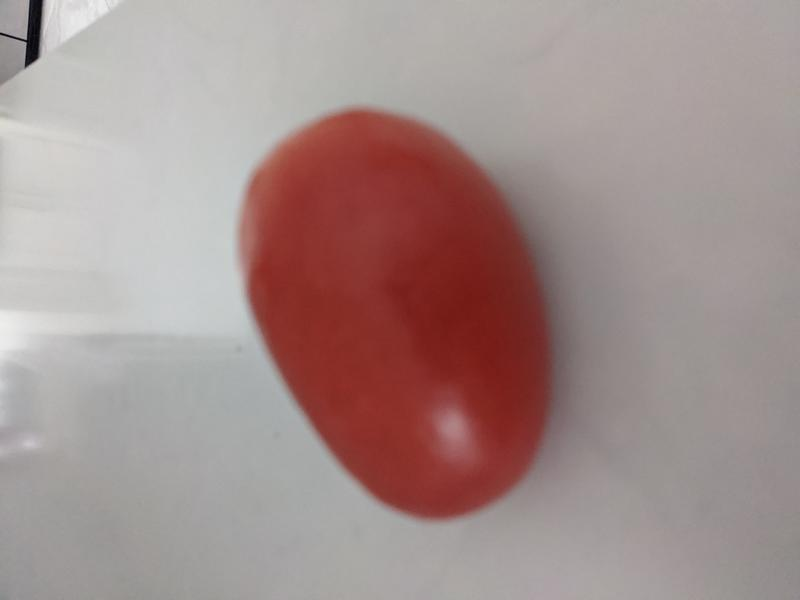tomato: (238, 108, 554, 520)
